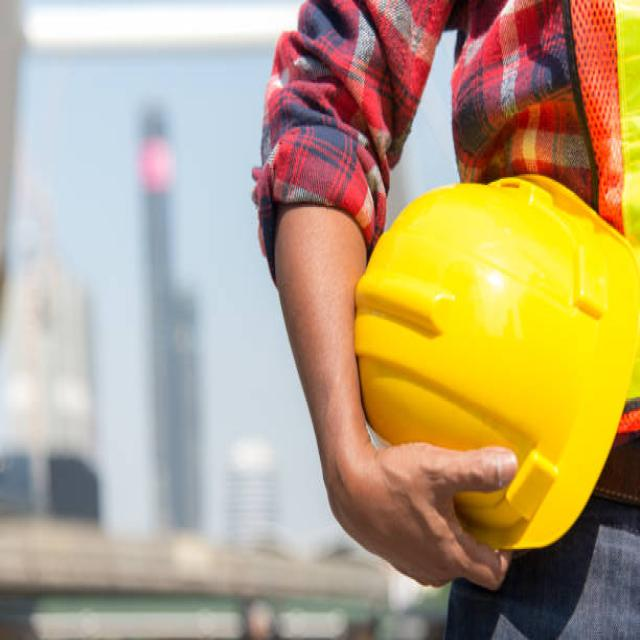helmet: (386, 151, 613, 558)
